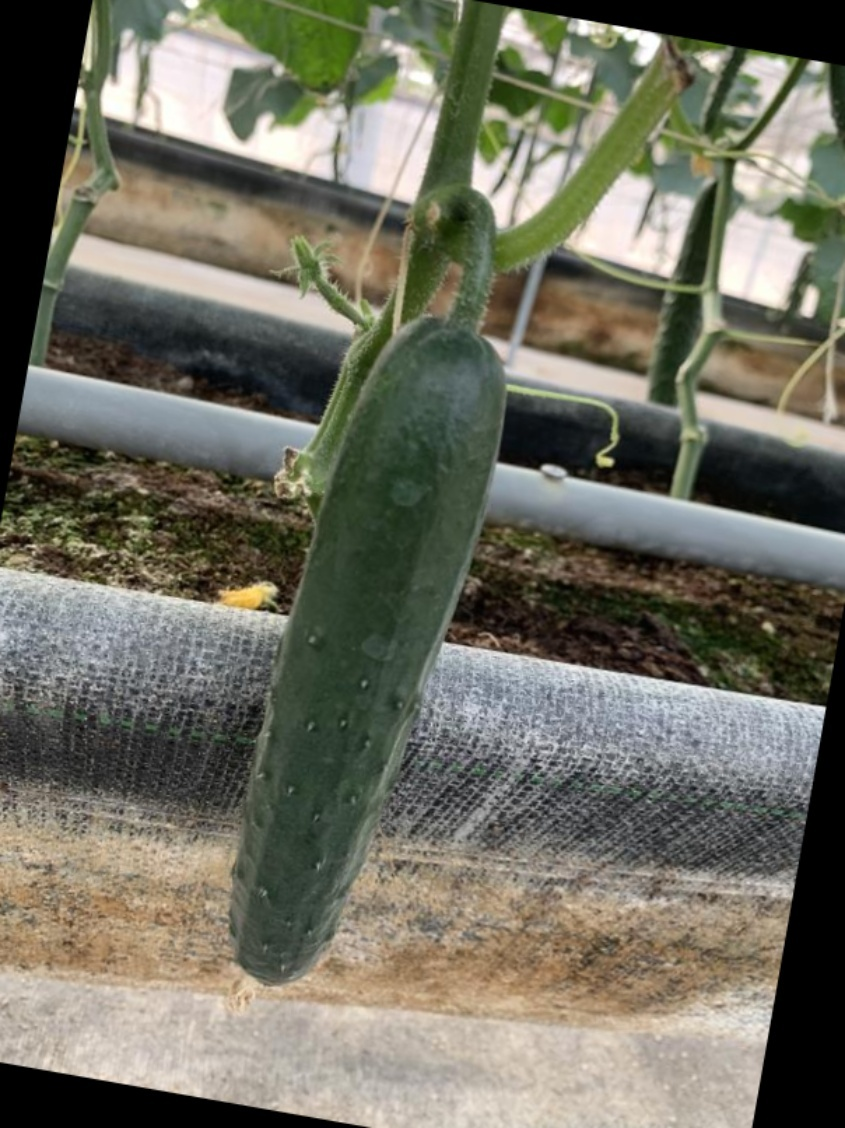mature: (212, 313, 521, 1006)
